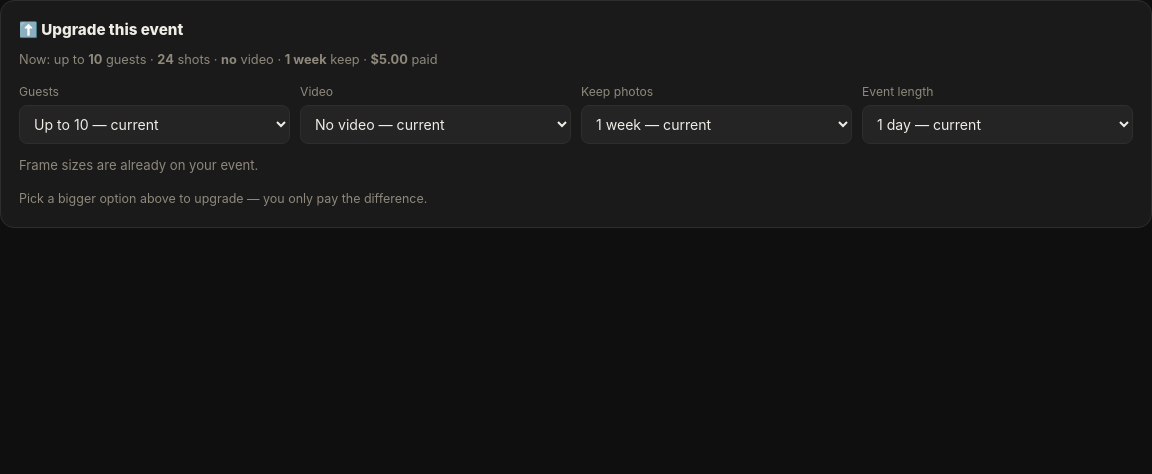
Scenario: the upgrade breakdown tells a host what they already have › shows what has been paid and what is left, so the line prices add up to something
Select "10s clips — free (normally +$5.00)" in the dropdown labelled "Video" at [436, 125], box [300,105,571,144]
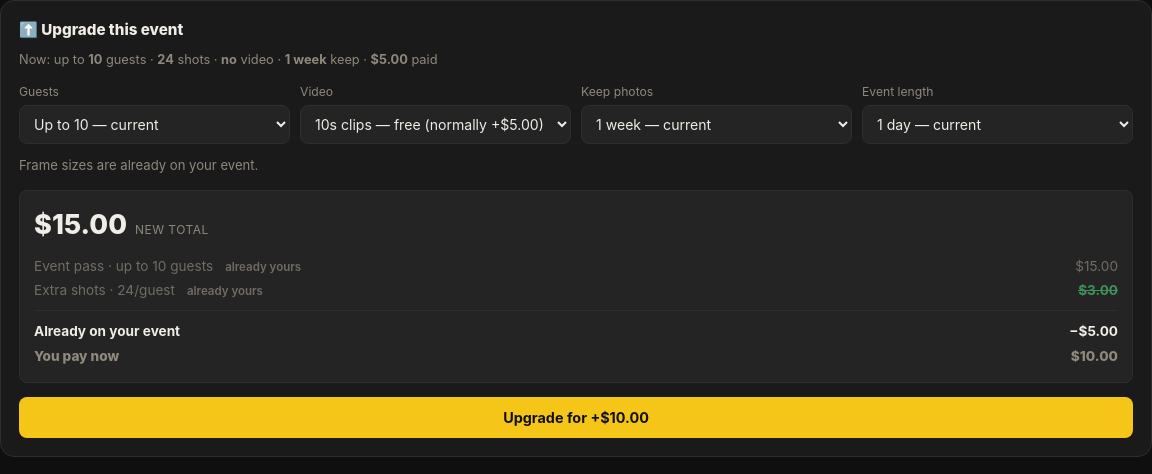
Expected: the list with class "sum" is shown, [34,310,1118,368]
Expected: the list with class "sum" shows "Already on your event", [34,324,180,340]
Expected: the list with class "sum" shows "You pay now", [34,348,119,364]
